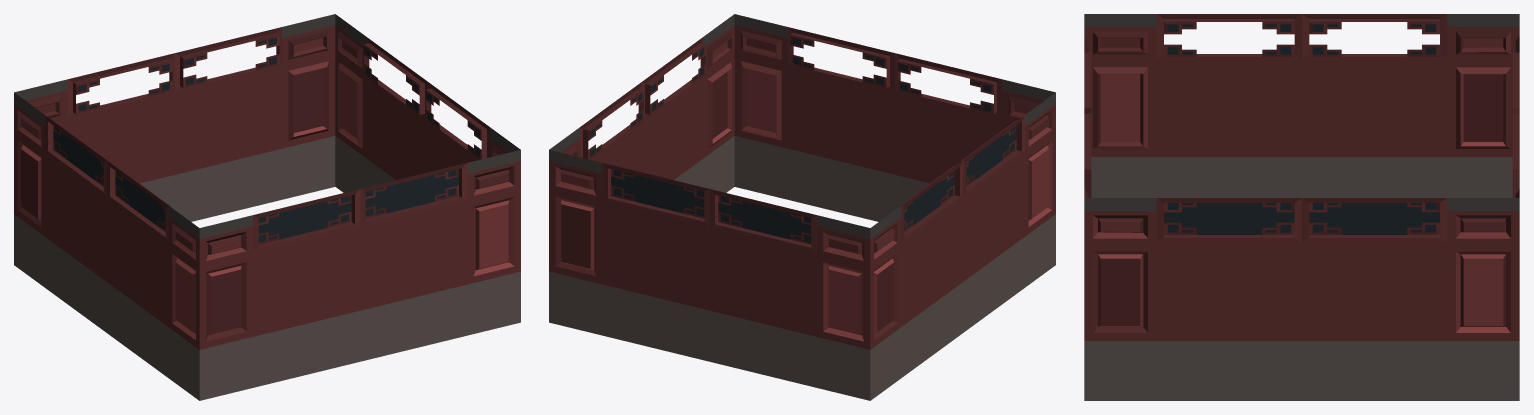
The model's file is StackA-Sm_D.fbx.
The picture shows the model from 3 angles, left to right: view 1: azimuth 30°, elevation 25°; view 2: azimuth 150°, elevation 25°; view 3: azimuth 270°, elevation 25°; orthographic projection. The views are drawn at different scales.
Visible parts, largest first — view 1: StackA-Sm_D; view 2: StackA-Sm_D; view 3: StackA-Sm_D.
Boxes of the visible parts, box(x1,y1,x2,y2) form: StackA-Sm_D: box(14, 14, 520, 400); StackA-Sm_D: box(549, 14, 1055, 400); StackA-Sm_D: box(1084, 14, 1519, 400).
Bounding box in the file's own units: 750 × 386 × 750.
